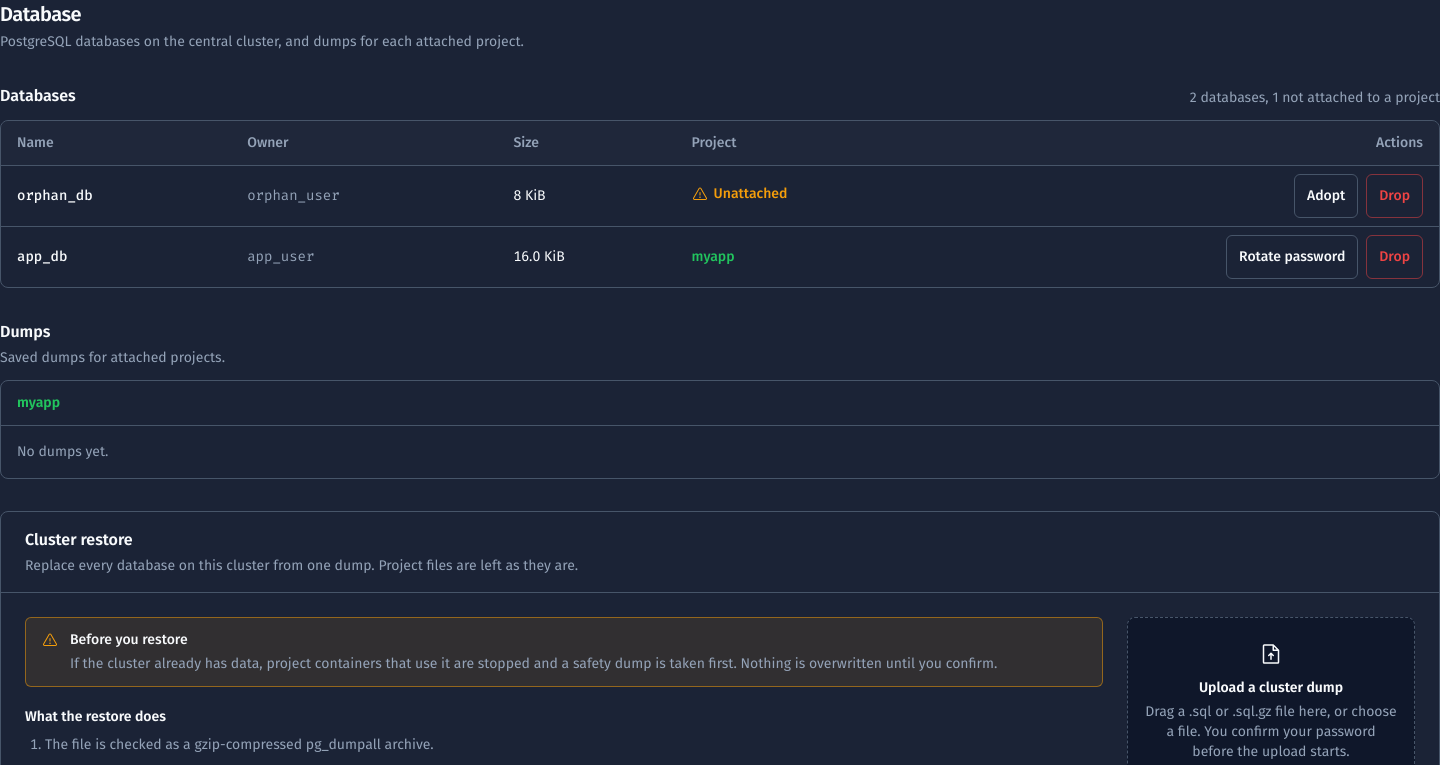
DatabasePage › asks to deploy after rotating a password
Expected: the text "app_db" is shown, [1, 226, 231, 287]
Click the button "Rotate password" at {"x": 1292, "y": 257}, box [1226, 235, 1358, 279]
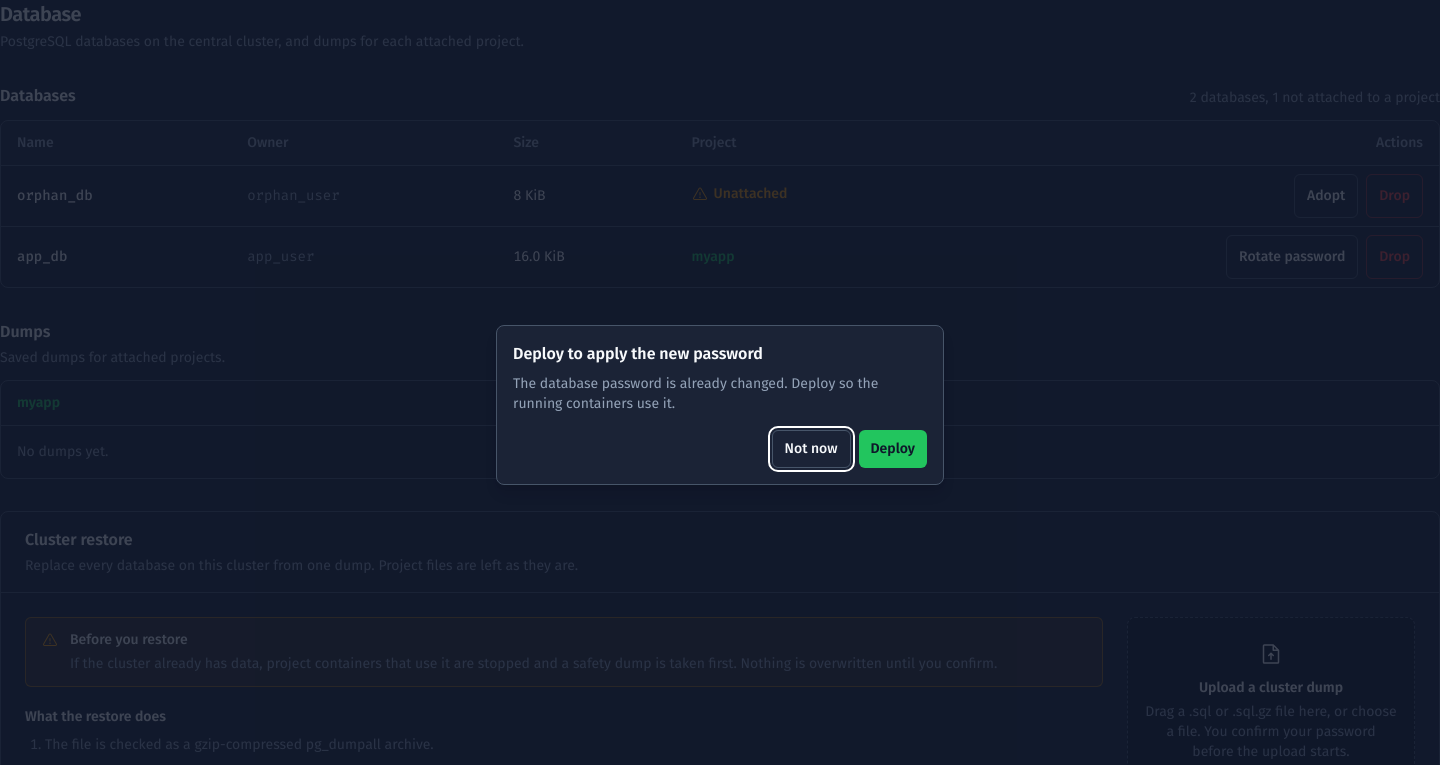
Expected: the dialog "Deploy to apply the new password" is shown, [496, 325, 944, 485]
